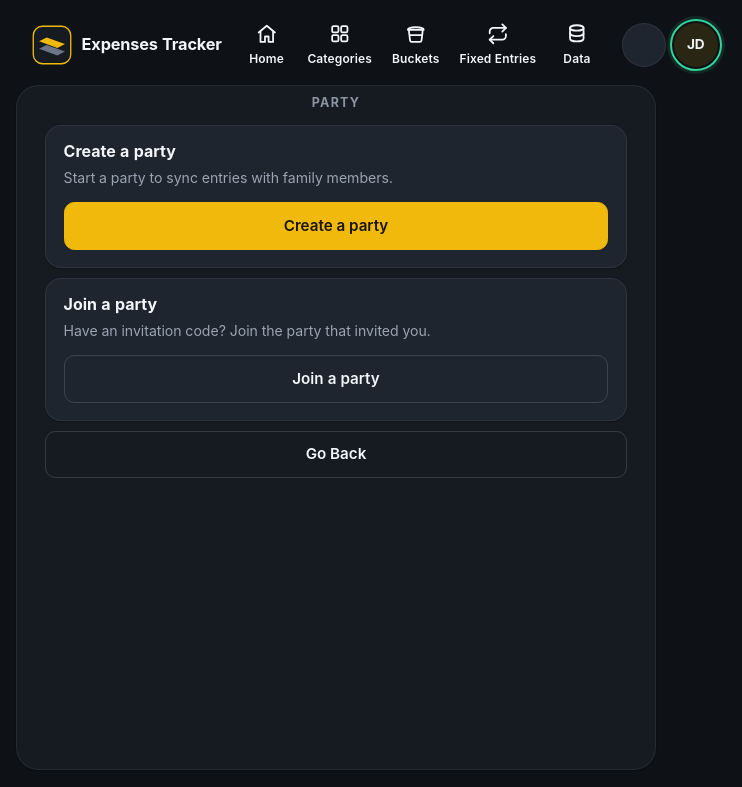
party creation › creates a party via the confirm dialog and shows the organizer view
This screenshot has width=742, height=787.
Click the button "Create a party": point(336, 226) [64,202,608,250]
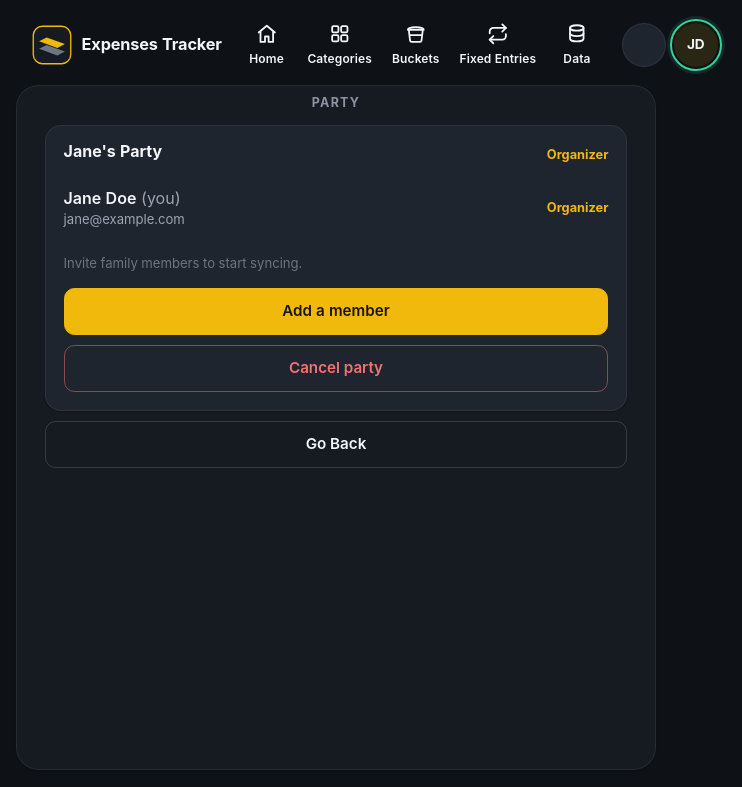
Expected: the heading "Jane's Party" is shown, [64,142,162,161]
Expected: the text "Organizer" in the row of "Jane's Party" is shown, [547,147,608,162]
Expected: the text "Jane Doe (you)" is shown, [64,186,185,210]
